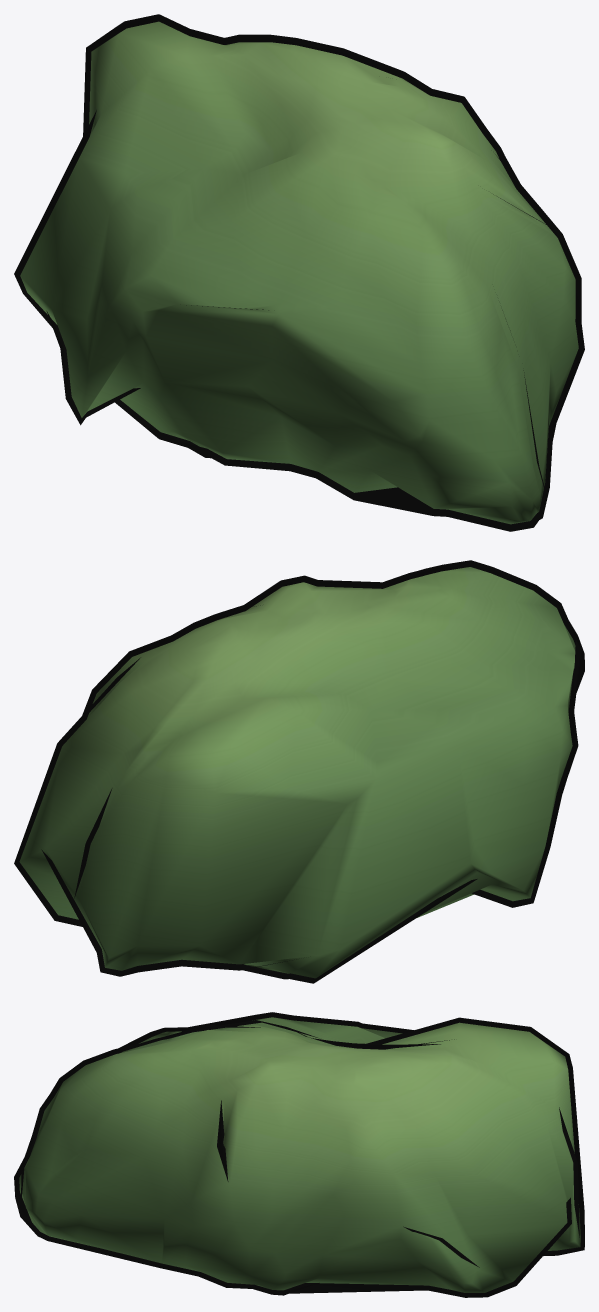
Rendered from env_big_bush.glb.
3 views of the same model, one above another, from view 1: azimuth 30°, elevation 25°; view 2: azimuth 150°, elevation 25°; view 3: azimuth 270°, elevation 25° (orthographic). The views are drawn at different scales.
Visible parts, largest first — view 1: Cube.011; view 2: Cube.011; view 3: Cube.011.
Part boxes in pixels (x1=…): Cube.011: x1=14, y1=14, x2=584, y2=531; Cube.011: x1=14, y1=560, x2=584, y2=983; Cube.011: x1=14, y1=1012, x2=584, y2=1297.
Bounding box in the file's own units: 0.6929 × 0.3959 × 1.04.
Materials: 2 (1 with a texture image).
